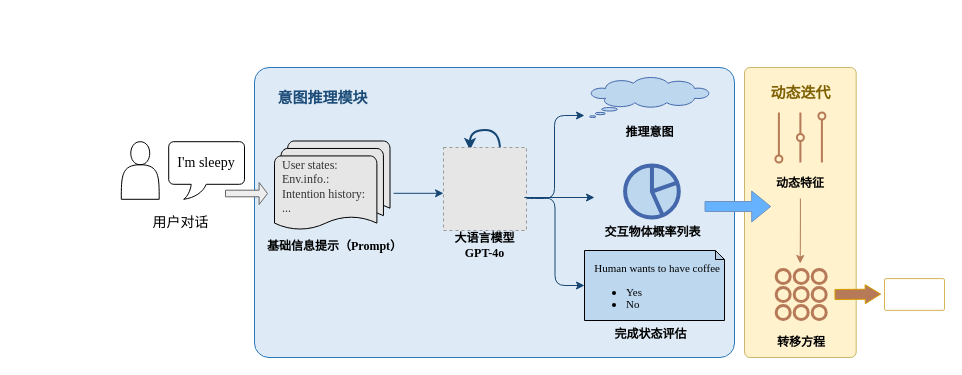
This 962x375 diagram has some shape labels left out. Grey dashed boxes stand in for pictures. The centre of each missing label's shape, as x and y in pixels:
"Human wants to have a coffee" belongs at (x=649, y=97).
"行为目标" belongs at (x=914, y=294).
